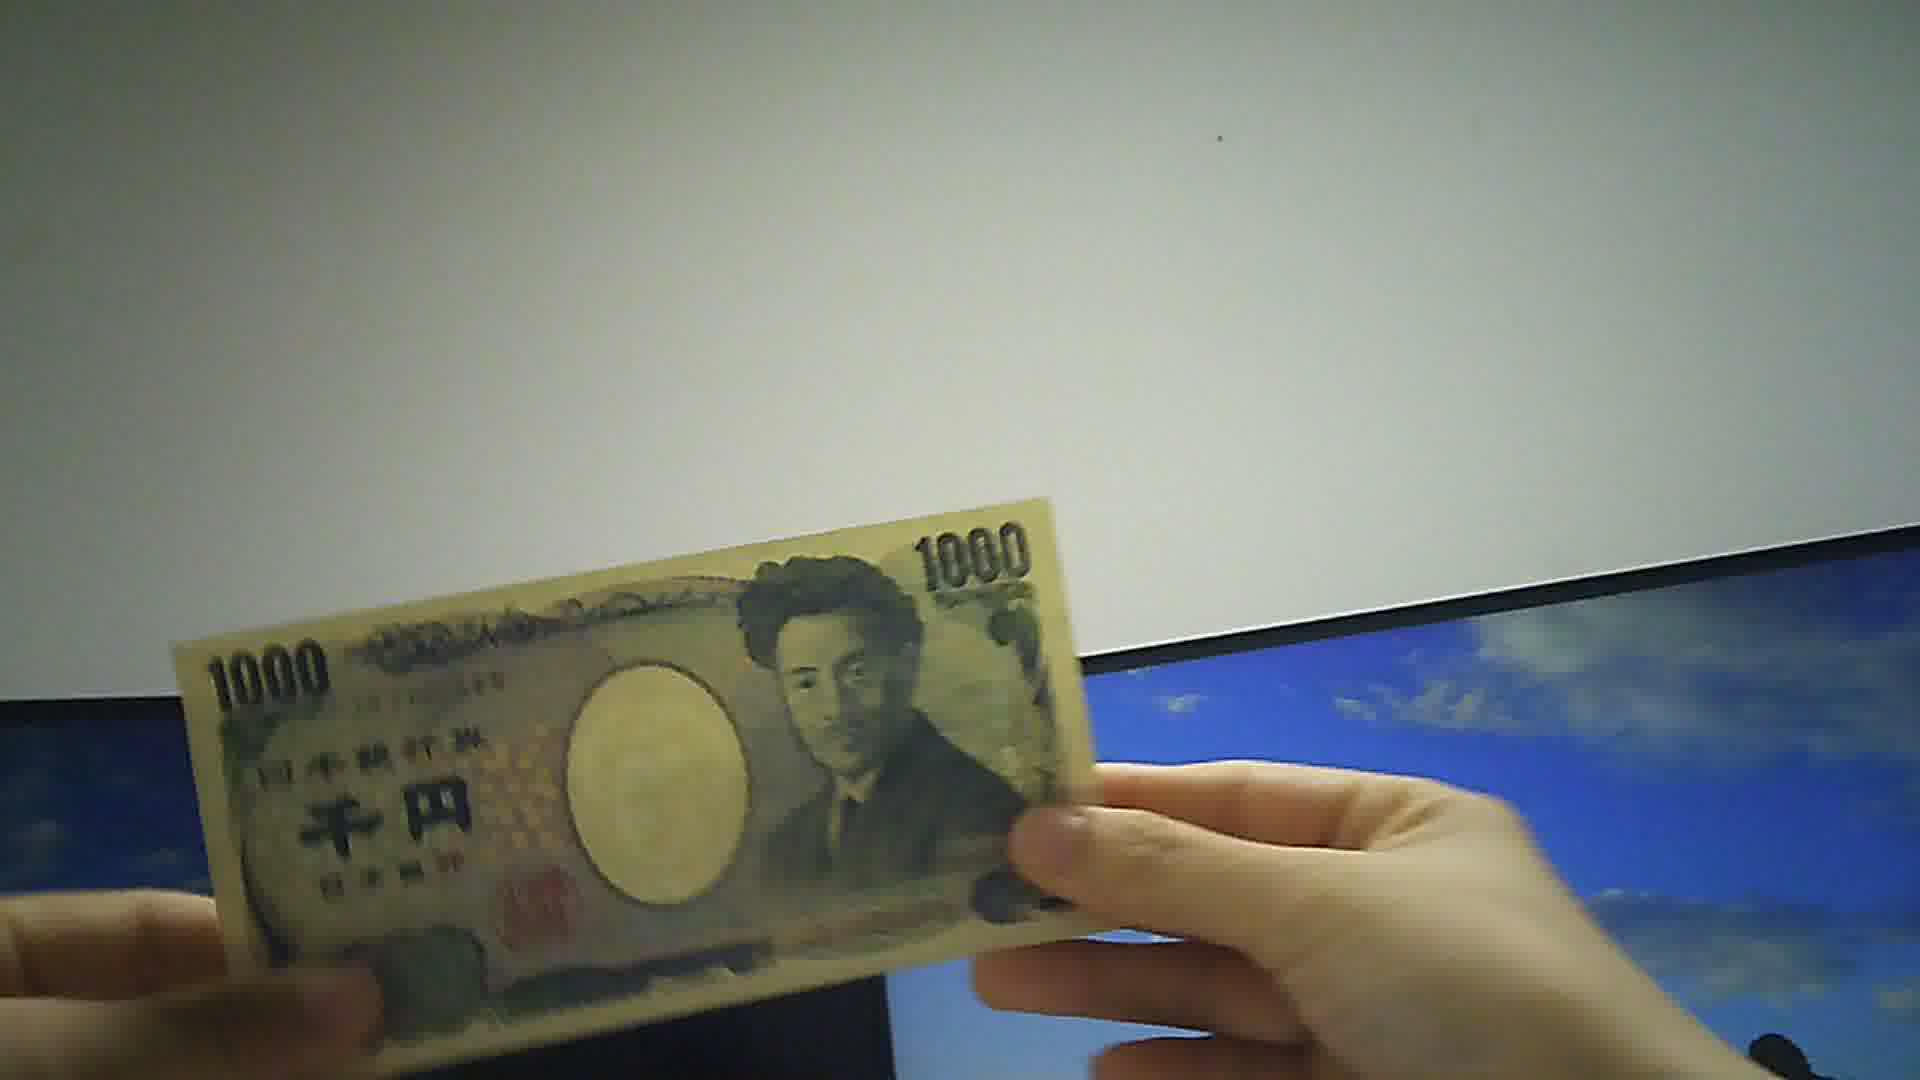1,000 Yen: (173, 495, 1088, 1079)
